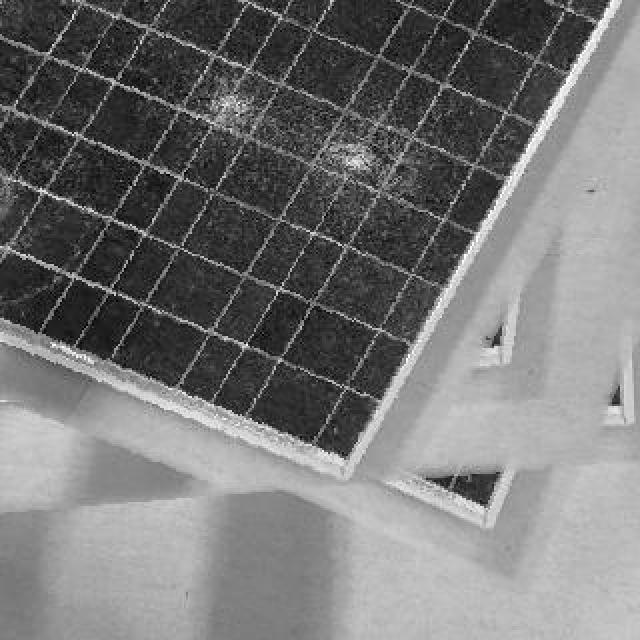Physical-damage: (0, 61, 456, 243)
